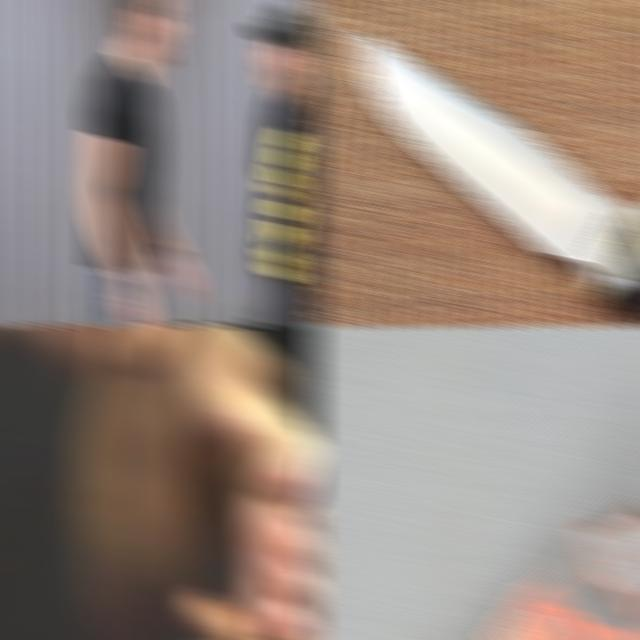Knife_Handle: (214, 434, 320, 640)
